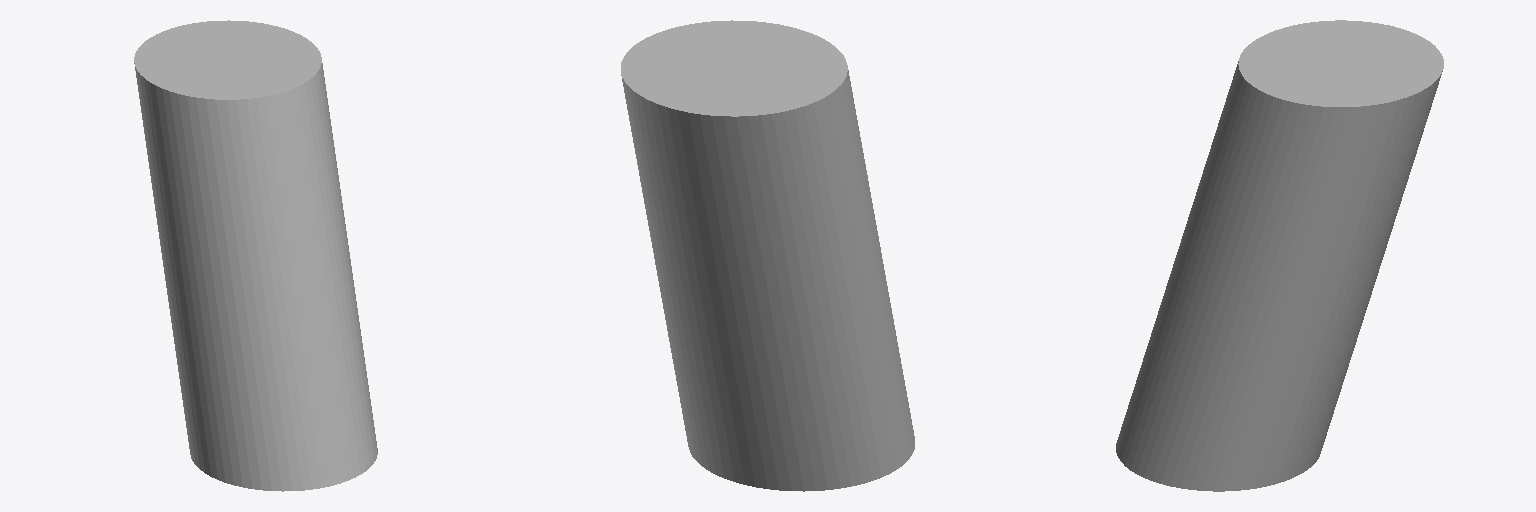
The robot description file, URDF, robot "root":
<robot name="root">
  <link name="link_Skewed Cylinder - v2_convex_piece_0">
    <inertial>
      <origin xyz="0 0 0" rpy="0 0 0"/>
      <mass value="1.89E-01"/>
      <inertia ixx="2.41E-04" ixy="3.79E-20" ixz="-1.72E-20" iyy="2.25E-04" iyz="-5.52E-05" izz="8.34E-05"/>
    </inertial>
    <visual>
      <origin xyz="0 0 0" rpy="0 0 0"/>
      <geometry>
        <mesh filename="Skewed Cylinder - v2_convex_piece_0.obj" scale="1.0000E+00 1.0000E+00 1.0000E+00"/>
      </geometry>
      <material name="">
        <color rgba="7.50E-01 7.50E-01 7.50E-01 1"/>
      </material>
    </visual>
    <collision>
      <origin xyz="0 0 0" rpy="0 0 0"/>
      <geometry>
        <mesh filename="Skewed Cylinder - v2_convex_piece_0.obj" scale="1.0000E+00 1.0000E+00 1.0000E+00"/>
      </geometry>
    </collision>
  </link>
</robot>

--- Render facts (derived) ---
Views: 3 orthographic renders of the robot side by side, from view 1: azimuth 30°, elevation 25°; view 2: azimuth 150°, elevation 25°; view 3: azimuth 270°, elevation 25°.
Robot: root — 1 links, 0 joints (none); root link link_Skewed Cylinder - v2_convex_piece_0; default pose: all joints at 0.
Visible links, largest first — view 1: link_Skewed Cylinder - v2_convex_piece_0; view 2: link_Skewed Cylinder - v2_convex_piece_0; view 3: link_Skewed Cylinder - v2_convex_piece_0.
Boxes of the visible links, x1,y1,x2,y2 form: link_Skewed Cylinder - v2_convex_piece_0: [134, 20, 377, 491]; link_Skewed Cylinder - v2_convex_piece_0: [621, 20, 914, 491]; link_Skewed Cylinder - v2_convex_piece_0: [1116, 20, 1443, 491].
Bounding box of the posed robot: 0.0533 × 0.0852 × 0.11 m (x, y, z).
1 mesh visuals loaded from 1 distinct referenced files (1 OBJ).
